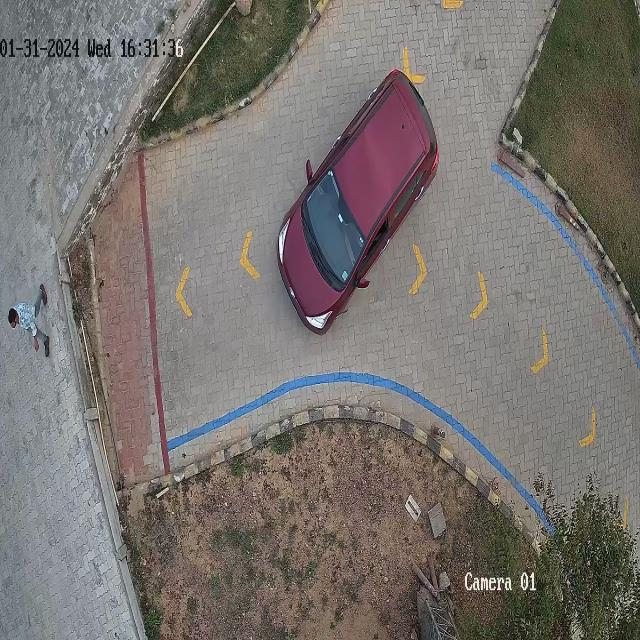car: (276, 68, 440, 334)
